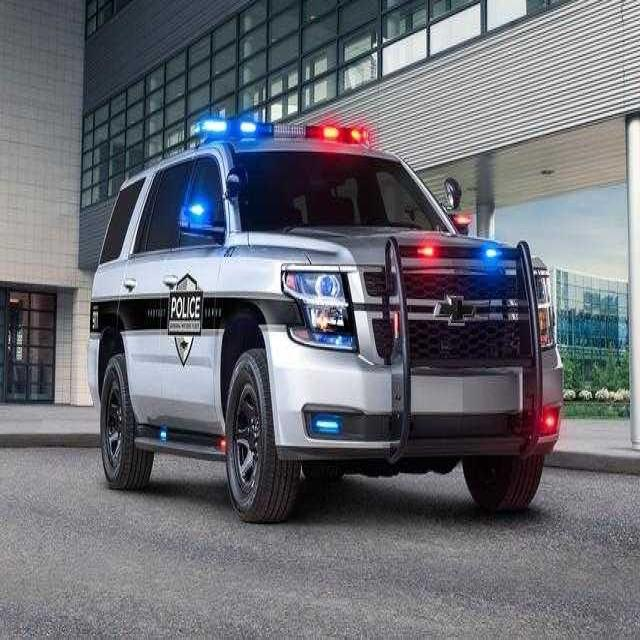firetruck: (85, 100, 563, 537)
